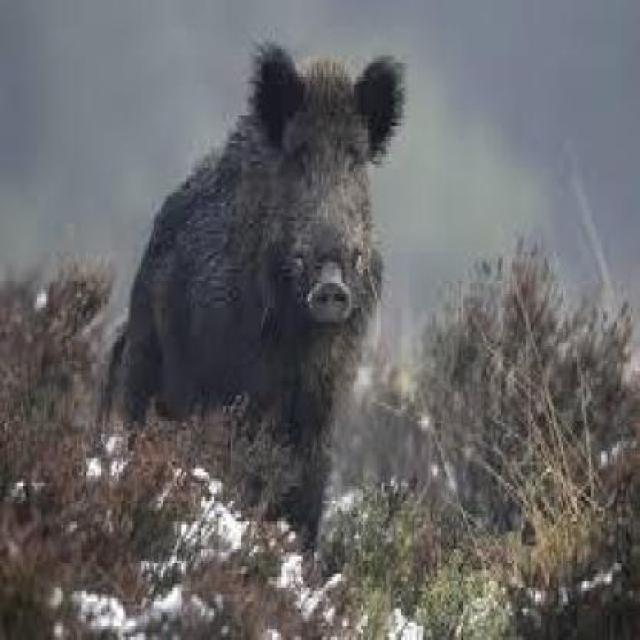wildboar: (101, 43, 412, 575)
